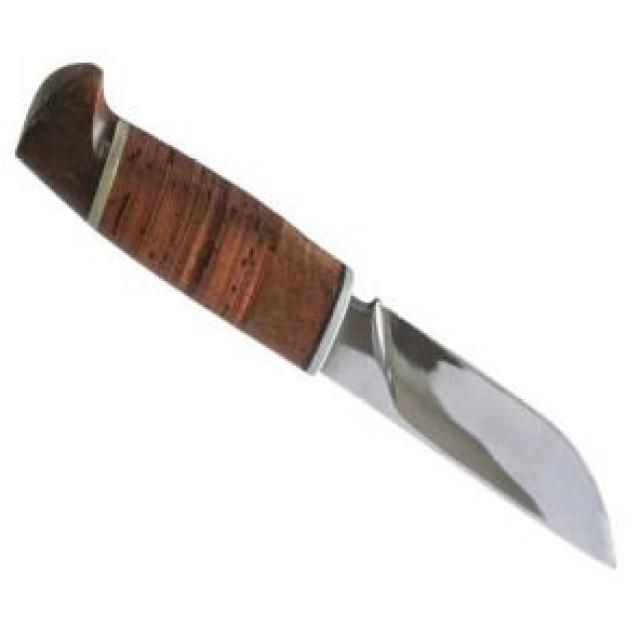knife: (12, 54, 618, 571)
